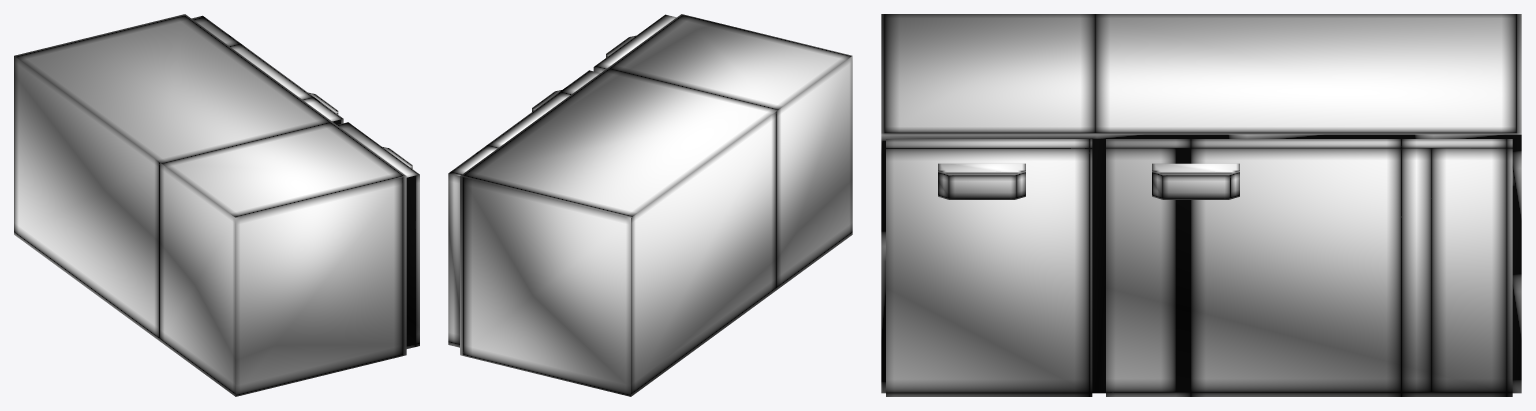
Rendered from Fridge.obj.
3 renders of one model, left to right at view 1: azimuth 30°, elevation 25°; view 2: azimuth 150°, elevation 25°; view 3: azimuth 270°, elevation 25°, orthographic. The views are drawn at different scales.
Parts seen in each view (by area): view 1: Cube1_sep16, Cube1_sep7, Cube1; view 2: Cube1_sep16, Cube1, Cube1_sep7; view 3: Cube1, Cube1_sep16, Cube1_sep7.
Part boxes in pixels (x1,y1,x2,y2): Cube1_sep16: [14, 14, 406, 396]; Cube1_sep7: [337, 122, 419, 348]; Cube1: [191, 15, 343, 124]; Cube1_sep16: [460, 14, 852, 396]; Cube1: [448, 70, 600, 347]; Cube1_sep7: [593, 14, 676, 72]; Cube1: [1106, 139, 1512, 396]; Cube1_sep16: [881, 14, 1521, 393]; Cube1_sep7: [886, 139, 1092, 396].
Bounding box in the file's own units: 2.34 × 2 × 4.49.
1 material, 1 textured.
